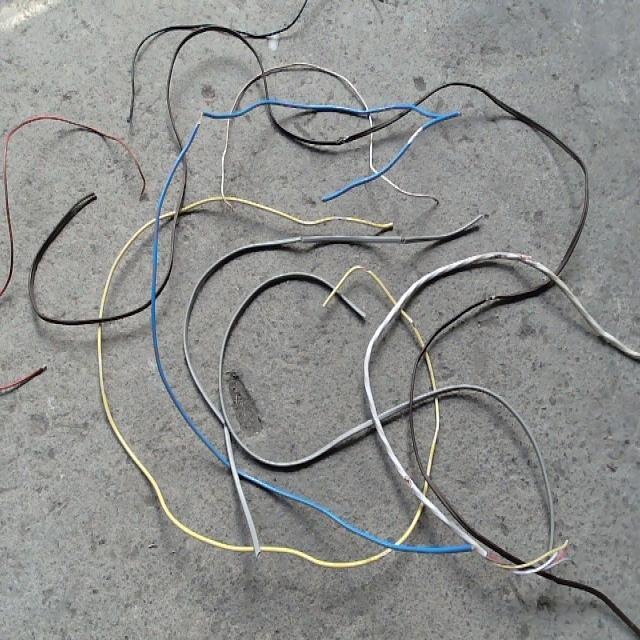-: (403, 475, 413, 488), (196, 109, 204, 123), (360, 263, 370, 272), (485, 294, 496, 302), (335, 135, 348, 141)
